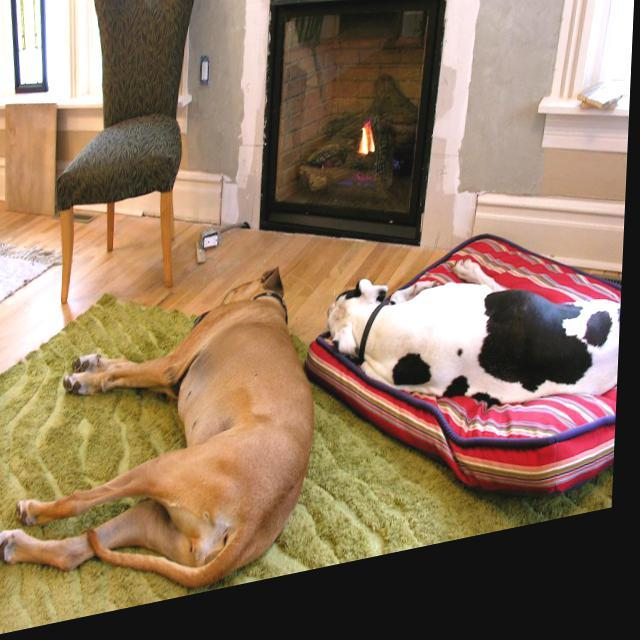Fire: (358, 140, 378, 172)
